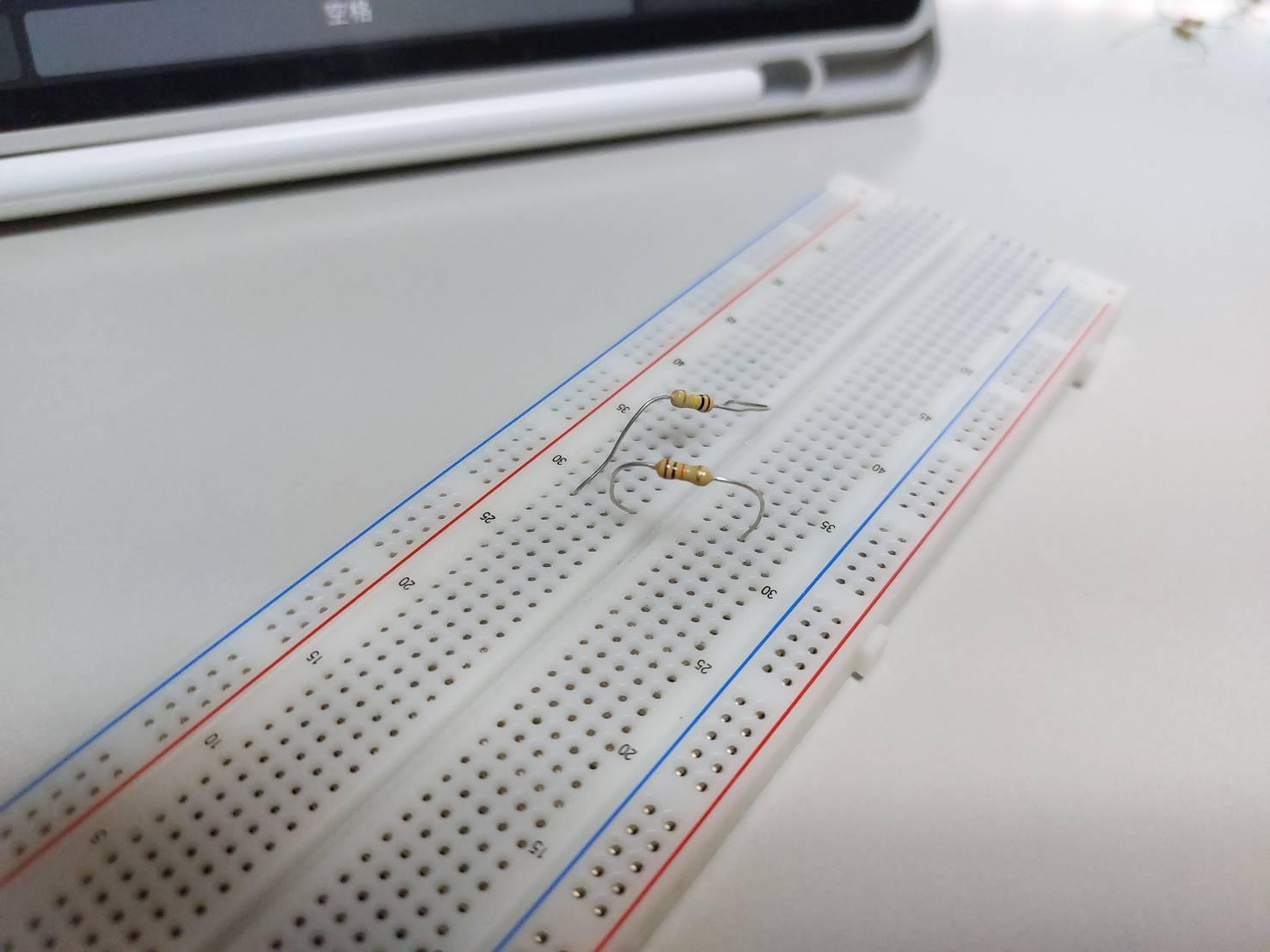resistor: (653, 456, 713, 487), (670, 388, 715, 414)
